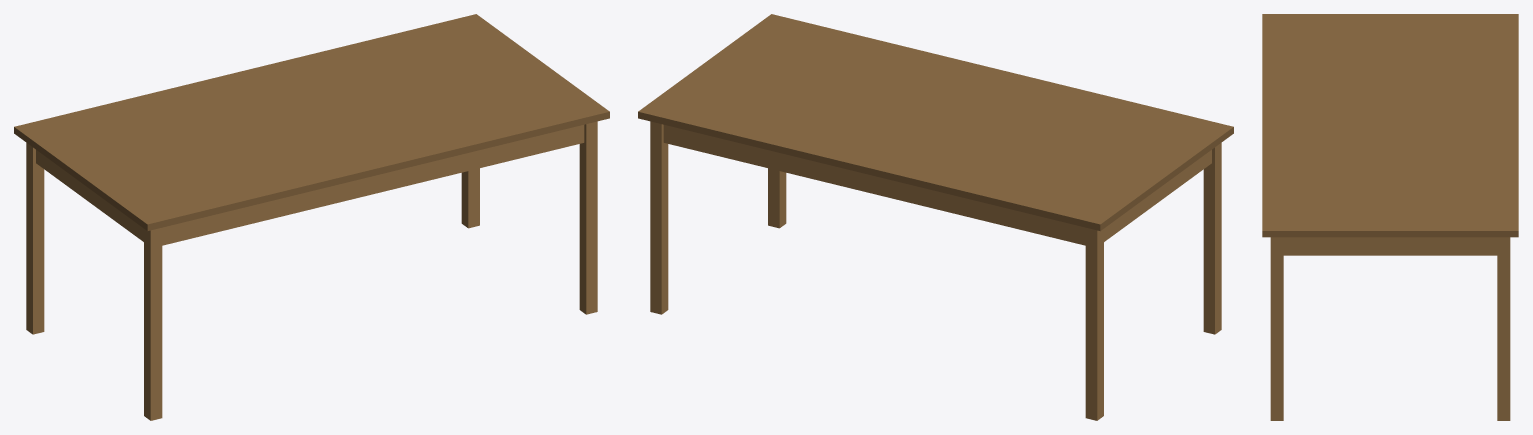
The model's file is HIN-DTB-6-seat.glb.
3 renders of one model, left to right at view 1: azimuth 30°, elevation 25°; view 2: azimuth 150°, elevation 25°; view 3: azimuth 270°, elevation 25°, orthographic. The views are drawn at different scales.
Parts seen in each view (by area): view 1: top:pbr, apron-f:pbr, leg-fl:pbr, leg-fr:pbr, leg-bl:pbr, apron-l:pbr, leg-br:pbr; view 2: top:pbr, apron-b:pbr, leg-bl:pbr, leg-br:pbr, leg-fl:pbr, apron-l:pbr, leg-fr:pbr; view 3: top:pbr, apron-r:pbr, leg-fr:pbr, leg-br:pbr.
Boxes of the visible parts, bbox=[...] form: top:pbr: bbox=[14, 14, 609, 231]; apron-f:pbr: bbox=[162, 125, 584, 245]; leg-fl:pbr: bbox=[144, 228, 162, 420]; leg-fr:pbr: bbox=[579, 121, 597, 314]; leg-bl:pbr: bbox=[26, 143, 44, 334]; apron-l:pbr: bbox=[36, 150, 143, 241]; leg-br:pbr: bbox=[461, 168, 479, 228]; top:pbr: bbox=[638, 14, 1233, 231]; apron-b:pbr: bbox=[663, 125, 1085, 245]; leg-bl:pbr: bbox=[1085, 228, 1103, 420]; leg-br:pbr: bbox=[650, 121, 668, 314]; leg-fl:pbr: bbox=[1203, 143, 1221, 334]; apron-l:pbr: bbox=[1104, 150, 1211, 241]; leg-fr:pbr: bbox=[768, 168, 786, 228]; top:pbr: bbox=[1262, 14, 1518, 237]; apron-r:pbr: bbox=[1283, 237, 1497, 255]; leg-fr:pbr: bbox=[1270, 237, 1283, 420]; leg-br:pbr: bbox=[1497, 237, 1510, 420].
Size of the model in its own units: 1.8 by 0.75 by 0.9.
